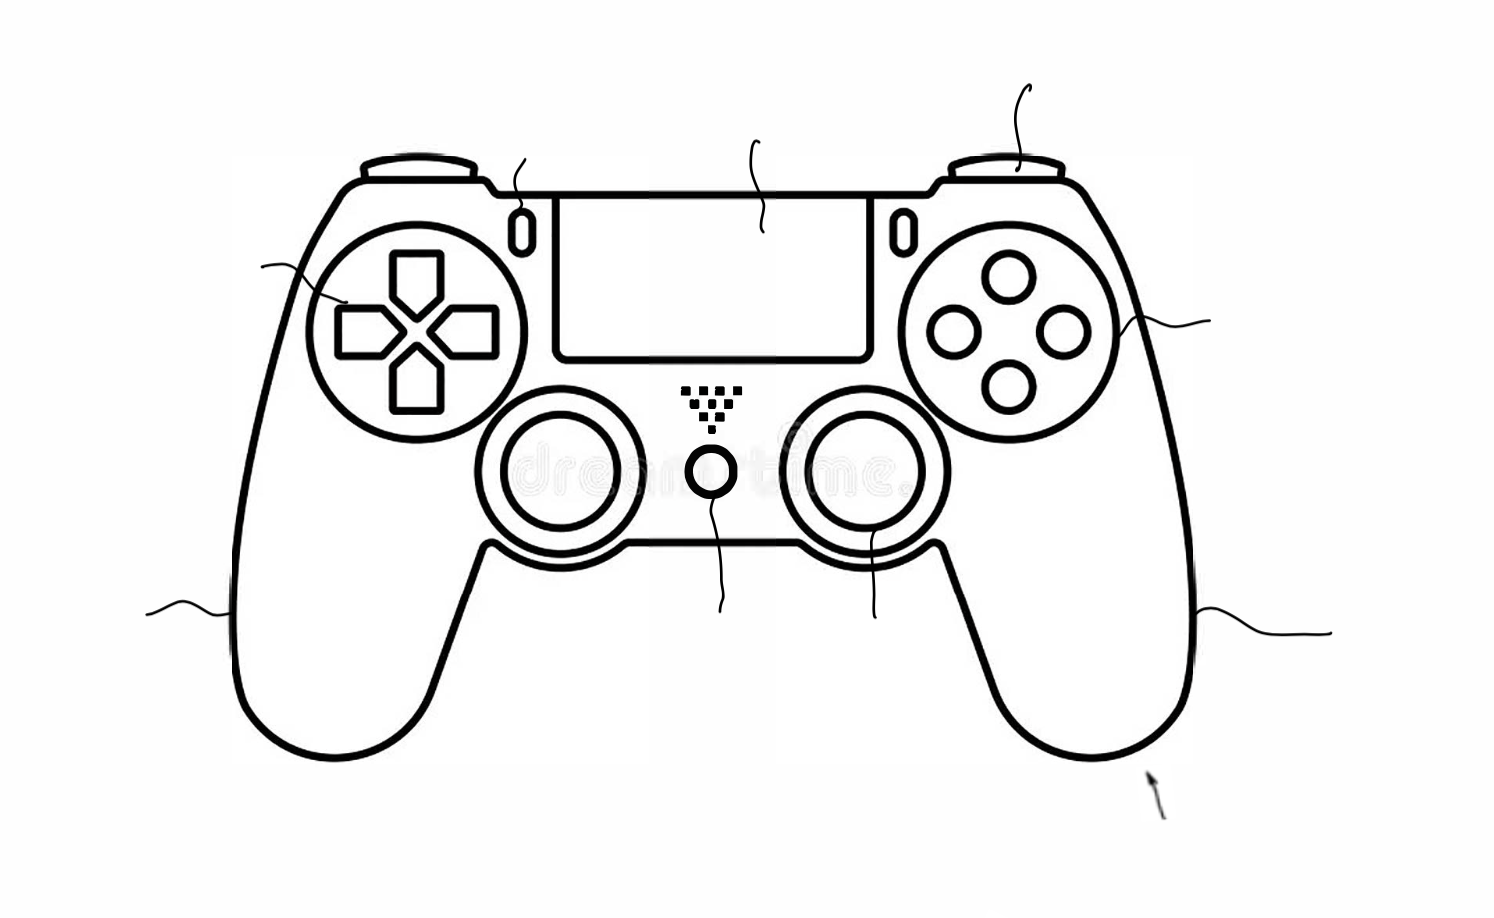Callout: (1195, 581, 1337, 678), (240, 234, 357, 327), (122, 566, 241, 646), (1110, 276, 1214, 362), (694, 482, 750, 637), (994, 62, 1060, 173), (736, 122, 790, 239), (487, 124, 547, 222), (856, 516, 903, 629), (1129, 766, 1183, 826)
